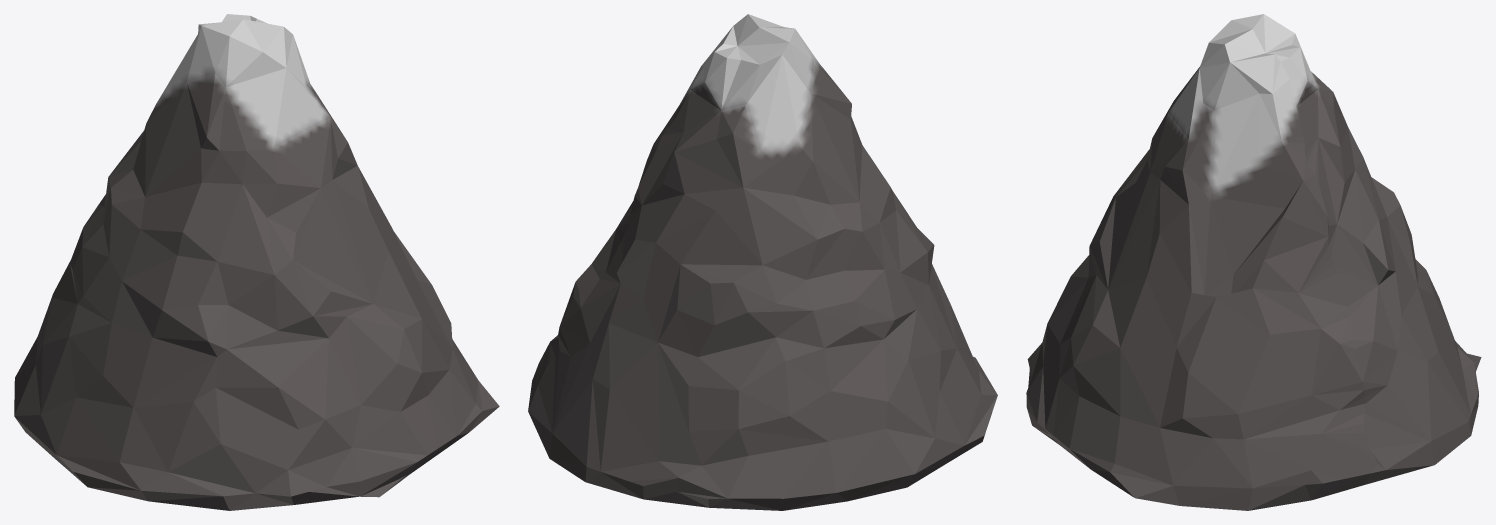
The model's file is Mountain Bg 1.fbx.
3 views of the same model, side by side, from view 1: azimuth 30°, elevation 25°; view 2: azimuth 150°, elevation 25°; view 3: azimuth 270°, elevation 25° (orthographic). The views are drawn at different scales.
Visible parts, largest first — view 1: Mountain_Bg_1; view 2: Mountain_Bg_1; view 3: Mountain_Bg_1.
Boxes of the visible parts, x1,y1,x2,y2 form: Mountain_Bg_1: (14,14,499,510); Mountain_Bg_1: (528,14,997,510); Mountain_Bg_1: (1026,14,1481,510).
Size of the model in its own units: 42.34 by 40.18 by 42.67.
1 material, 1 textured.
